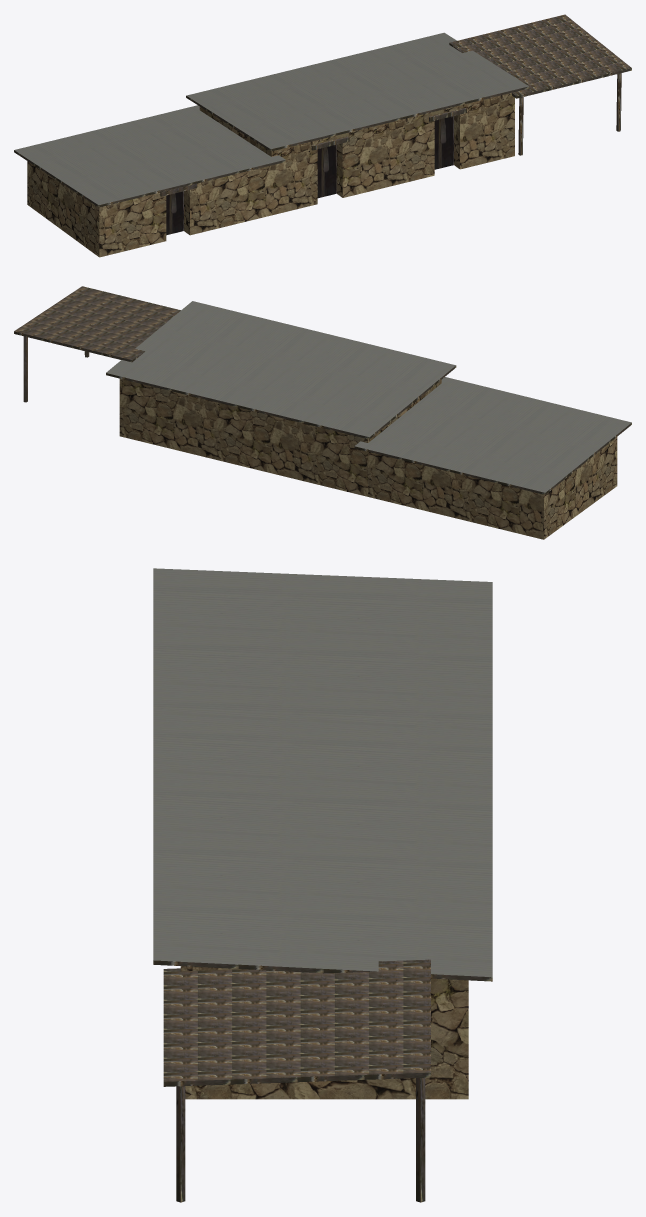
File: v6-rancho-piedra.glb
3 views of the same model, one above another, from view 1: azimuth 30°, elevation 25°; view 2: azimuth 150°, elevation 25°; view 3: azimuth 270°, elevation 25° (orthographic). The views are drawn at different scales.
Parts seen in each view (by area): view 1: v6-rancho-piedra; view 2: v6-rancho-piedra; view 3: v6-rancho-piedra.
Part boxes in pixels (x1,y1,x2,y2): v6-rancho-piedra: (14,14,631,257); v6-rancho-piedra: (14,286,631,539); v6-rancho-piedra: (153,568,492,1202).
Bounding box in the file's own units: 18.05 × 2.35 × 4.95.
Materials: 4 (4 with a texture image).
